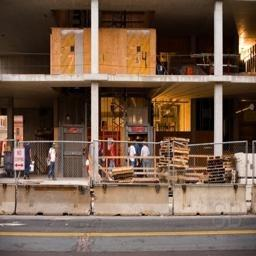no hat: (139, 137, 151, 152), (50, 139, 61, 151), (129, 140, 137, 150)
no vest: (47, 148, 63, 173), (140, 144, 154, 171), (126, 146, 138, 166)
